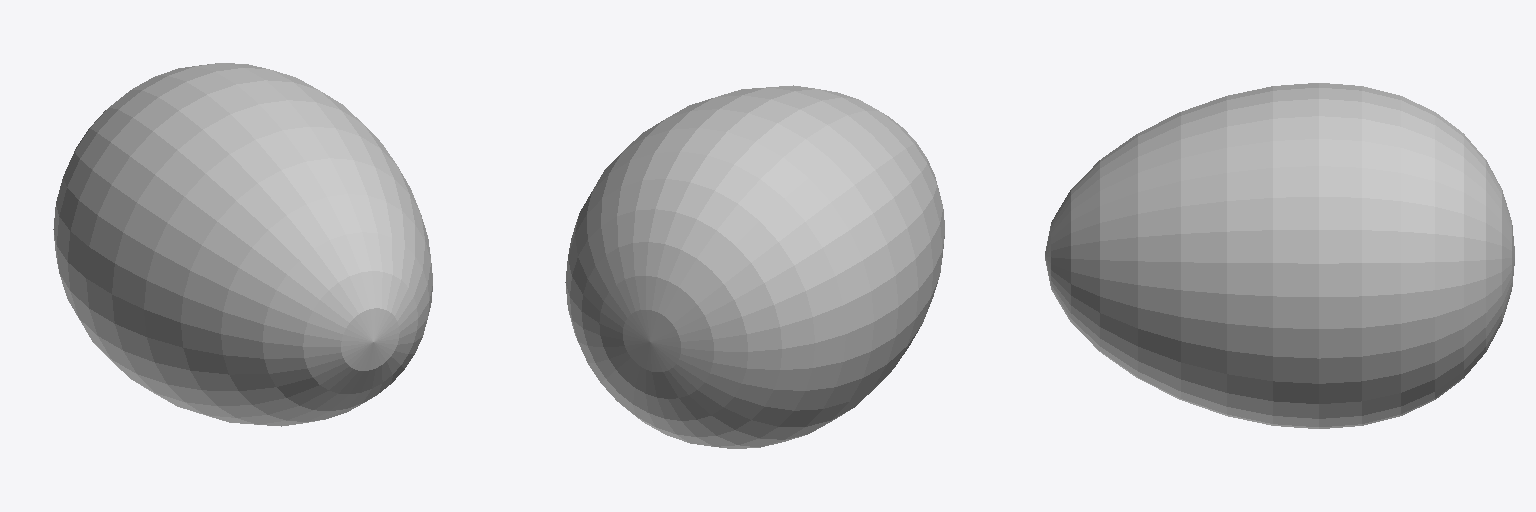
The model's file is huevo5.obj.
The picture shows the model from 3 angles: view 1: azimuth 30°, elevation 25°; view 2: azimuth 150°, elevation 25°; view 3: azimuth 270°, elevation 25°; orthographic projection.
Parts seen in each view (by area): view 1: Egg04_Mat04_0.001; view 2: Egg04_Mat04_0.001; view 3: Egg04_Mat04_0.001.
Boxes of the visible parts, <box> form: Egg04_Mat04_0.001: <box>53,63,432,426</box>; Egg04_Mat04_0.001: <box>565,85,944,448</box>; Egg04_Mat04_0.001: <box>1045,83,1514,428</box>.
Size of the model in its own units: 2 by 2 by 2.72.